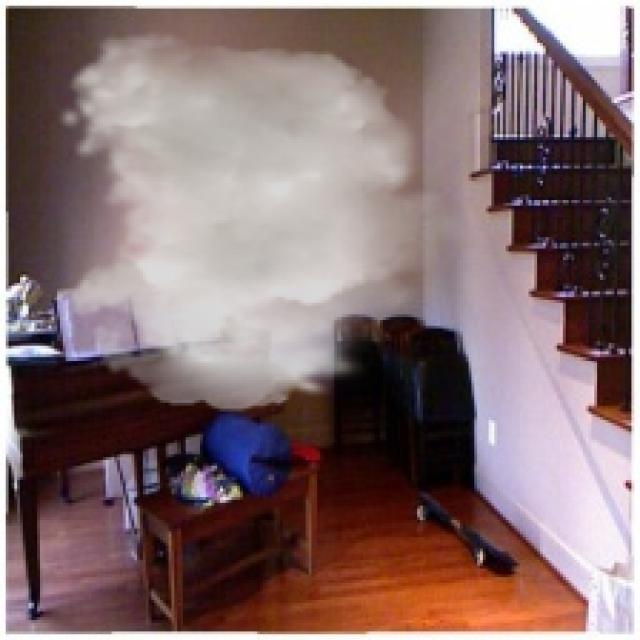smoke: (57, 31, 472, 412)
